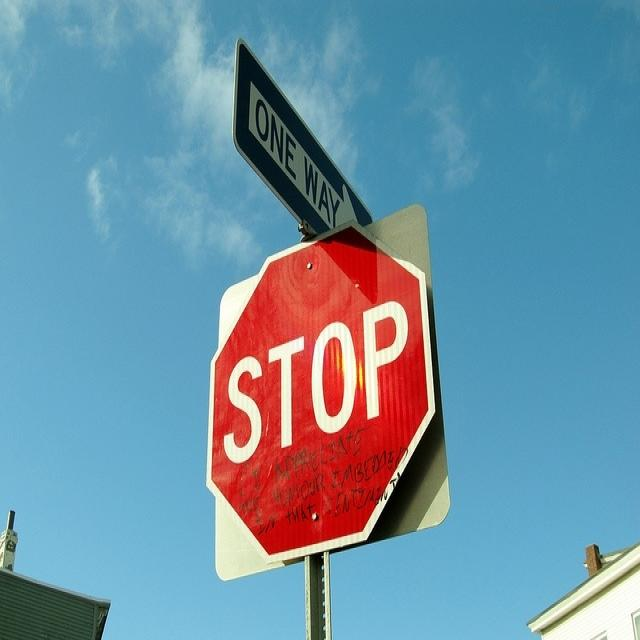Stop: (204, 220, 440, 571)
